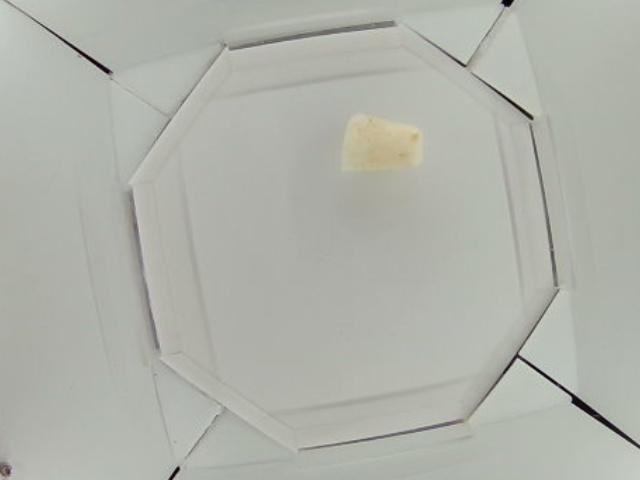Mooli: (341, 112, 426, 170)
